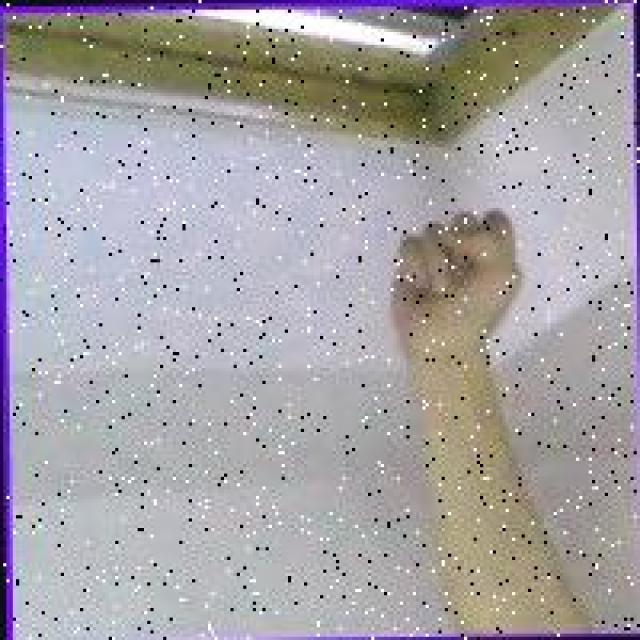S: (381, 197, 525, 360)
